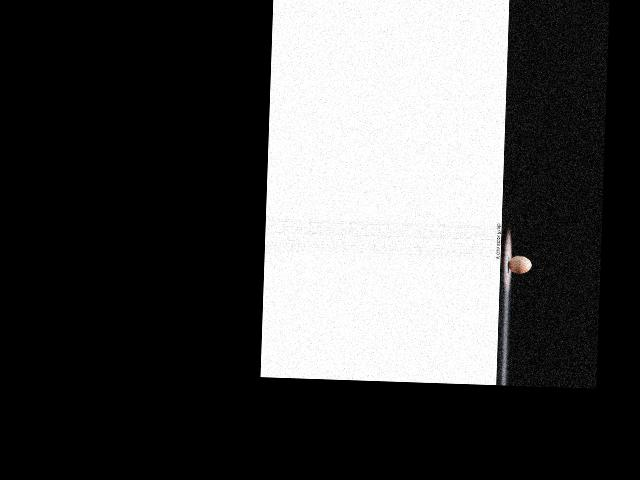egg: (507, 255, 531, 274)
